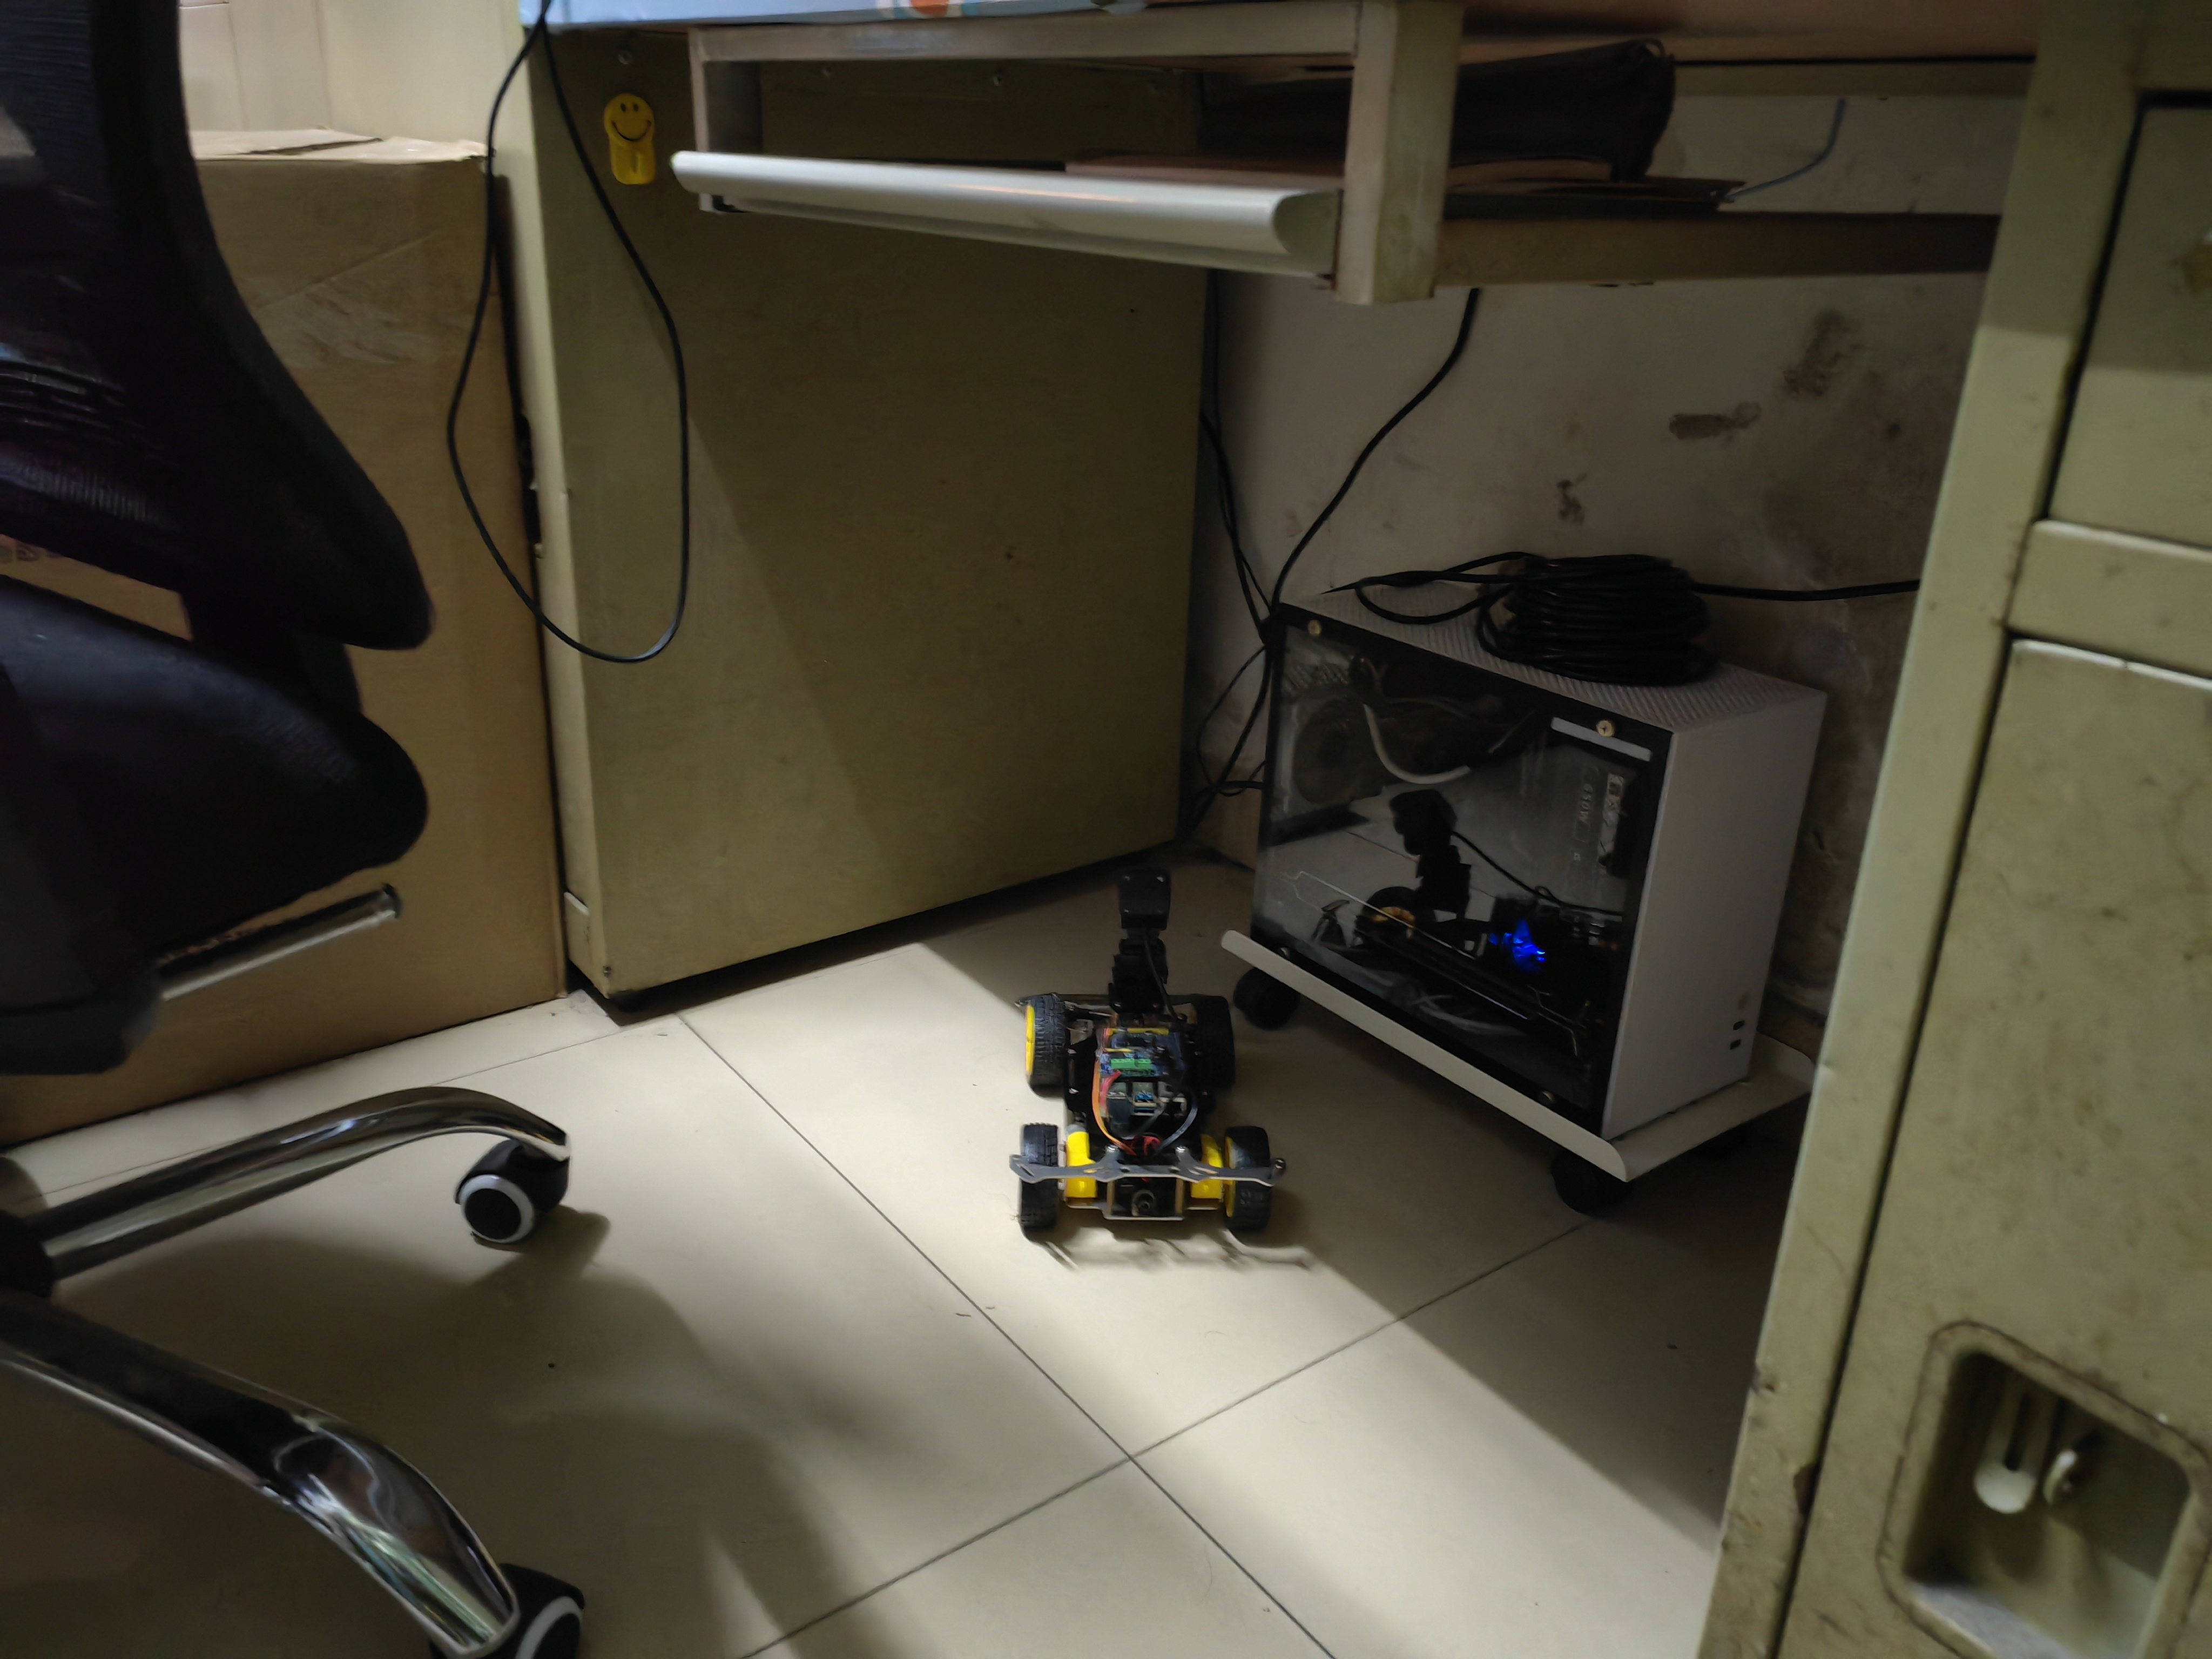car: (1014, 836, 1275, 1258)
